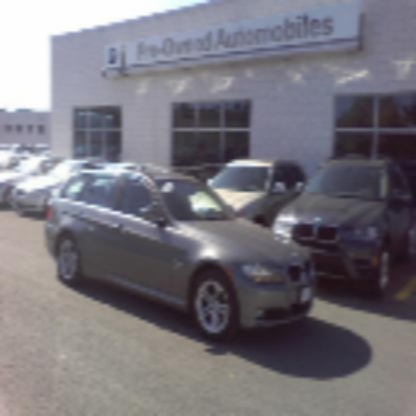Vehicle: (26, 152, 333, 376)
